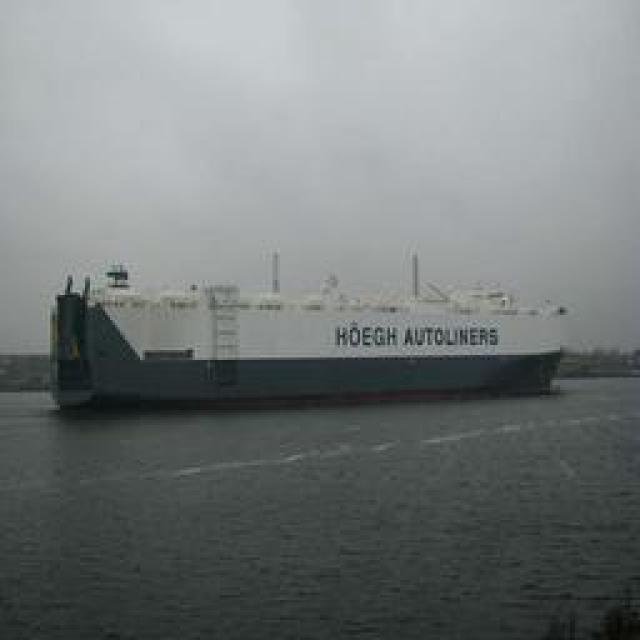CIV_Ship: (52, 260, 570, 405)
